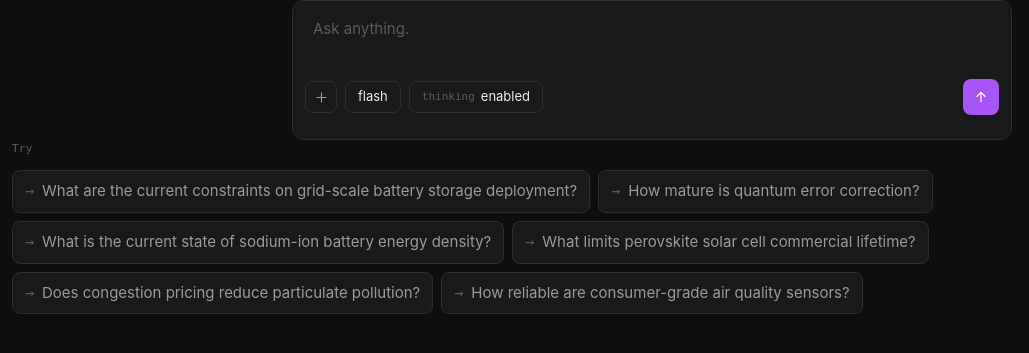
Scenario: Composer › shows the enumerated configuration reason on a 500
Step 1. Type "q" into the text box named "Research question" → (652, 40), box [305, 13, 999, 67]
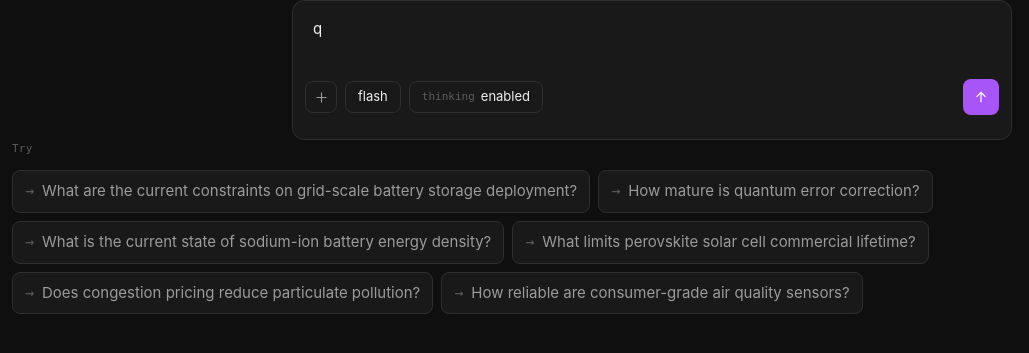
Step 2. Submit the form named "Research question", box [292, 0, 1012, 140]
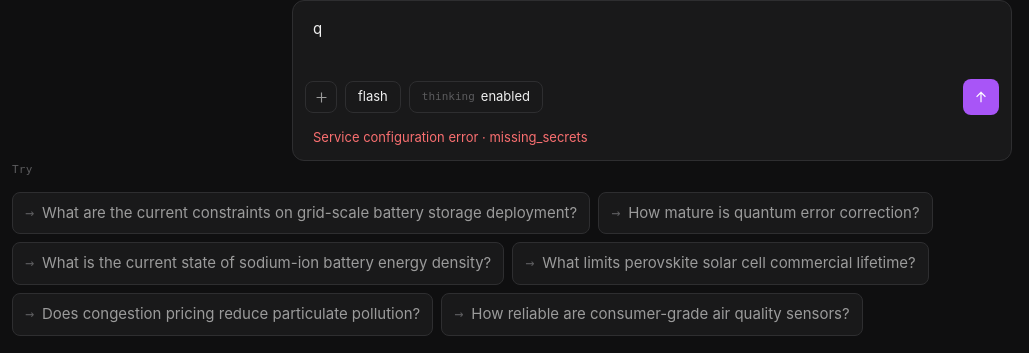
Now the message reads "Service configuration error · missing_secrets", box [313, 129, 588, 145]
